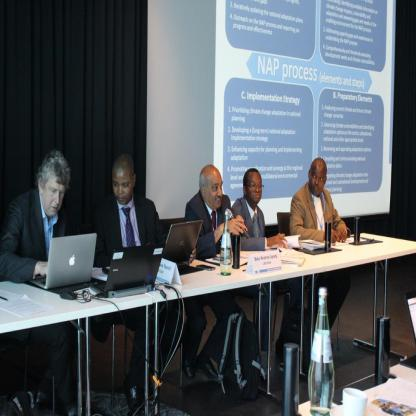board: (89, 244, 166, 298), (35, 235, 94, 301), (308, 286, 334, 416), (162, 221, 204, 266), (221, 210, 232, 277)
